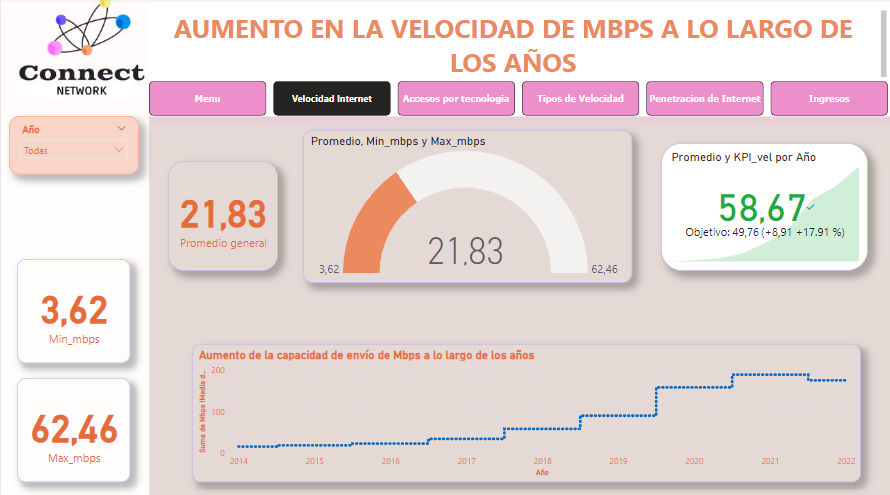

The dashboard page shown, as its layout file describes it:
{"tool":"powerbi","page":{"name":"Velocidad Internet","canvas":[1280,720],"ordinal":1},"visuals":[{"type":"pageNavigator","box":[212.8,119.7,1067.2,50.8],"z":0},{"type":"lineChart","title":"Aumento de la capacidad de envío de Mbps a lo largo de los años","fields":{"Category":["historico_velocidad_internet.Año.Variación.Jerarquía de fechas.Año"],"Y":["Sum(historico_velocidad_internet.Mbps (Media de bajada))"]},"box":[275,498.2,963.4,198.7],"z":1000},{"type":"card","fields":{"Values":["historico_velocidad_internet.Max_mbps"]},"box":[23,547.2,162.7,149.8],"z":2000},{"type":"card","fields":{"Values":["historico_velocidad_internet.Min_mbps"]},"box":[23,375.8,162.7,149.8],"z":3000},{"type":"gauge","fields":{"MinValue":["historico_velocidad_internet.Min_mbps"],"MaxValue":["historico_velocidad_internet.Max_mbps"],"Y":["historico_velocidad_internet.Promedio"]},"box":[434.9,190.1,473.8,220.3],"z":4000},{"type":"slicer","fields":{"Values":["historico_velocidad_internet.Año.Variación.Jerarquía de fechas.Año"]},"box":[11.5,169.9,187.2,83.5],"z":5000},{"type":"card","fields":{"Values":["historico_velocidad_internet.Promedio"]},"box":[240.5,234.7,158.4,158.4],"z":6000},{"type":"kpi","fields":{"Goal":["historico_velocidad_internet.KPI_vel"],"TrendLine":["historico_velocidad_internet.Año"],"Indicator":["historico_velocidad_internet.Promedio"]},"box":[950.4,208.8,298.1,184.3],"z":7000},{"type":"textbox","box":[213.1,13,1067,106.6],"z":8000}]}

Visuals, with their boxes in screenshot pixels (x1, y1, x2, y2), scaled from the page's 1280x720 canvas onto the 890x495 screenshot:
pageNavigator: (x1=148, y1=82, x2=889, y2=117)
"Aumento de la capacidad de envío de Mbps a lo largo de los años" lineChart: (x1=191, y1=343, x2=861, y2=479)
card - historico_velocidad_internet.Max_mbps: (x1=16, y1=376, x2=129, y2=479)
card - historico_velocidad_internet.Min_mbps: (x1=16, y1=258, x2=129, y2=361)
gauge - historico_velocidad_internet.Min_mbps x historico_velocidad_internet.Max_mbps: (x1=302, y1=131, x2=632, y2=282)
slicer - historico_velocidad_internet.Año.Variación.Jerarquía de fechas.Año: (x1=8, y1=117, x2=138, y2=174)
card - historico_velocidad_internet.Promedio: (x1=167, y1=161, x2=277, y2=270)
kpi - historico_velocidad_internet.KPI_vel x historico_velocidad_internet.Año: (x1=661, y1=144, x2=868, y2=270)
textbox: (x1=148, y1=9, x2=889, y2=82)
